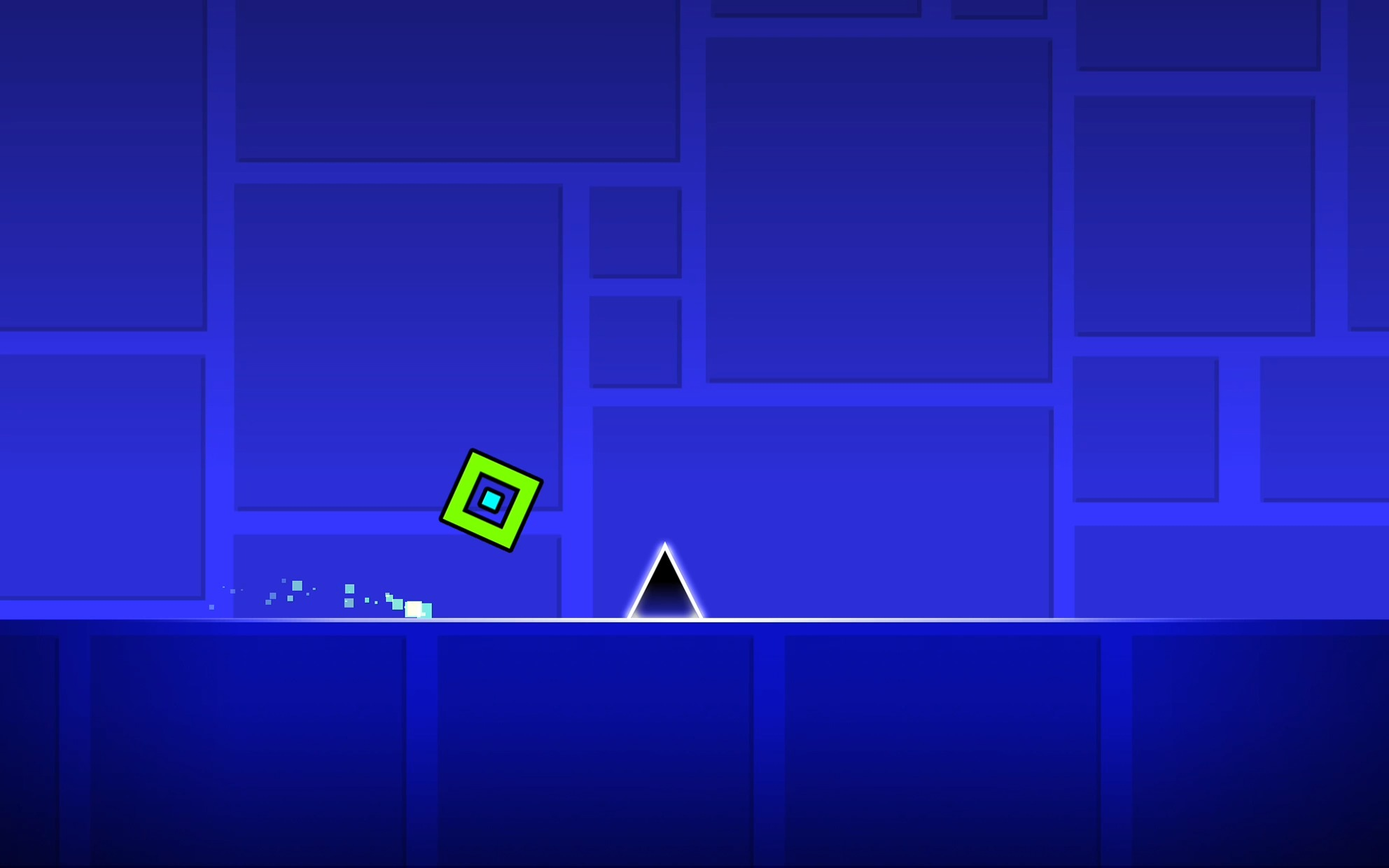Player: (440, 449, 543, 552)
Spike: (627, 544, 703, 618)
